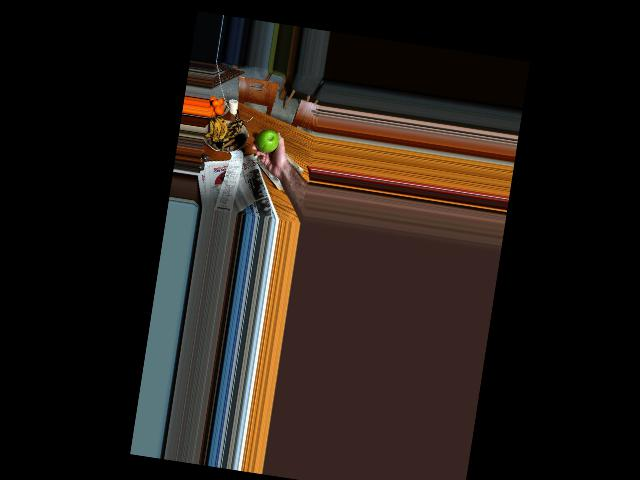apple: (254, 127, 281, 155)
